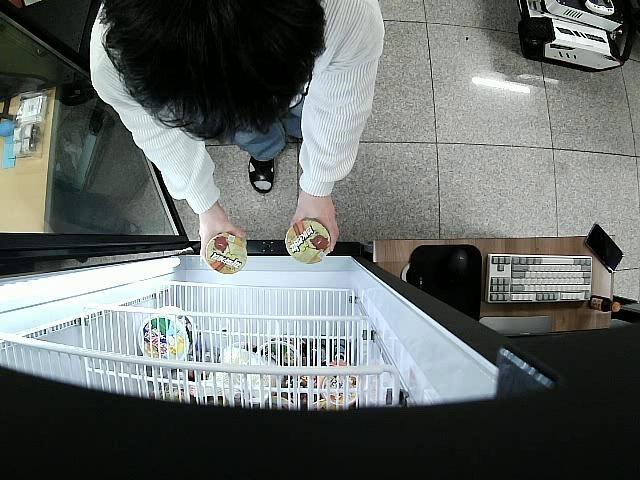04_chapagetti_S: (286, 219, 328, 264), (205, 233, 246, 275)
